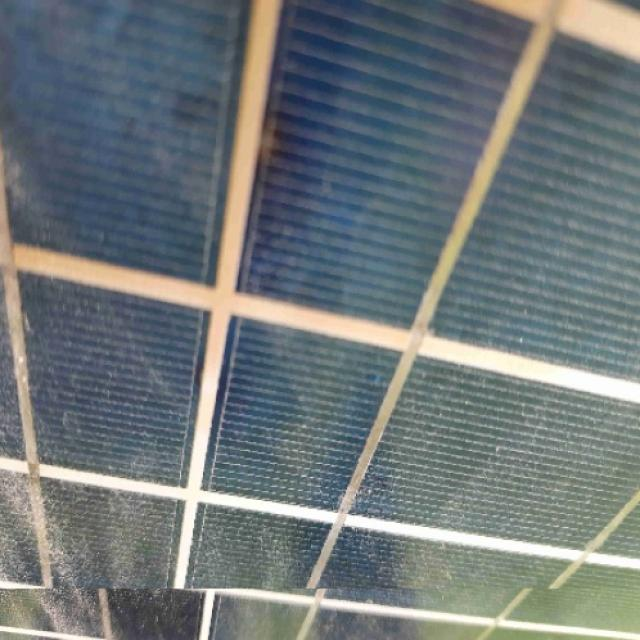Dirty: (0, 0, 640, 589)
